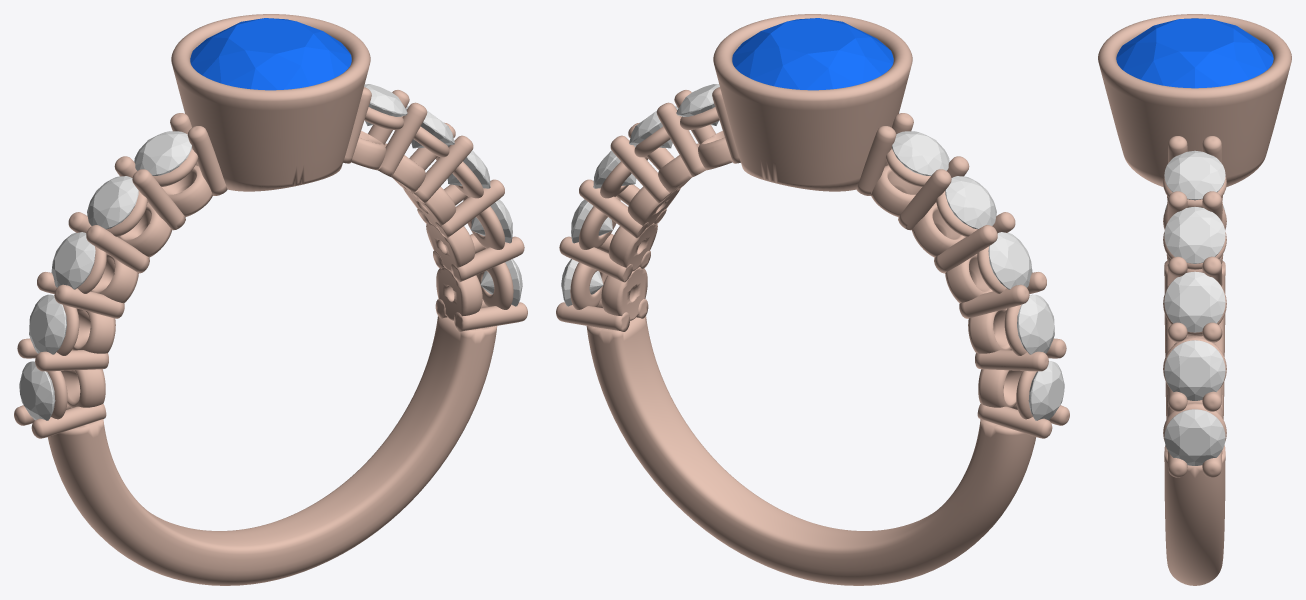
The model's file is bluesapphire-round-rosegold-bezelset-straightband-5stone.glb.
The picture shows the model from 3 angles, left to right: view 1: azimuth 30°, elevation 25°; view 2: azimuth 150°, elevation 25°; view 3: azimuth 270°, elevation 25°; orthographic projection. The views are drawn at different scales.
Parts seen in each view (by area): view 1: metal, stone, side.006, side.007, side.005, side.008, side.009, side, side.004, side.001, side.003; view 2: metal, stone, side.006, side.007, side.005, side.008, side.009, side, side.004, side.001, side.003; view 3: metal, stone, side.003, side.002, side.001, side.004, side.
Part boxes in pixels (<box>): metal: <box>14,14,527,585</box>; stone: <box>190,18,351,90</box>; side.006: <box>87,176,138,229</box>; side.007: <box>51,232,95,289</box>; side.005: <box>134,131,191,175</box>; side.008: <box>29,294,66,354</box>; side.009: <box>19,361,55,420</box>; side: <box>364,84,407,125</box>; side.004: <box>480,259,522,306</box>; side.001: <box>405,106,454,148</box>; side.003: <box>471,199,512,243</box>; metal: <box>556,14,1069,585</box>; stone: <box>732,18,893,90</box>; side.006: <box>945,176,996,229</box>; side.007: <box>988,232,1032,289</box>; side.005: <box>892,131,949,175</box>; side.008: <box>1017,294,1054,354</box>; side.009: <box>1028,361,1064,420</box>; side: <box>676,84,719,125</box>; side.004: <box>561,259,603,306</box>; side.001: <box>629,106,678,148</box>; side.003: <box>571,199,612,243</box>; metal: <box>1098,14,1291,585</box>; stone: <box>1116,18,1273,88</box>; side.003: <box>1164,340,1225,400</box>; side.002: <box>1164,271,1225,332</box>; side.001: <box>1164,207,1225,263</box>; side.004: <box>1164,409,1225,465</box>; side: <box>1164,150,1225,200</box>.
Size of the model in its own units: 22.63 by 23.81 by 7.94.
